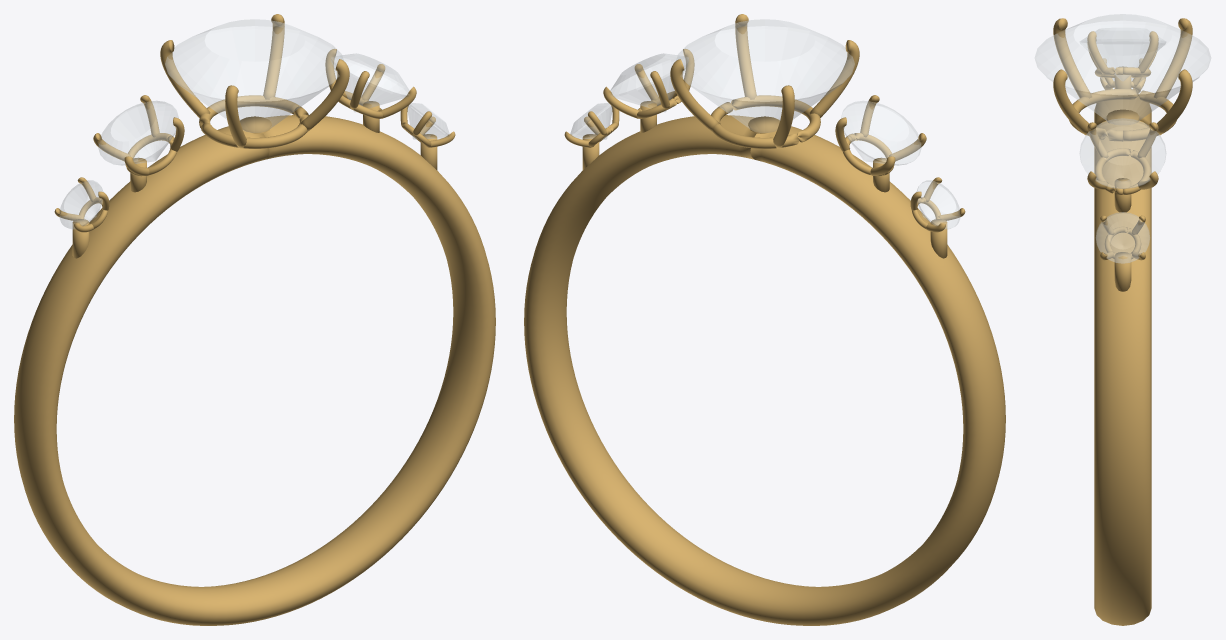
The model's file is layouts-five-stone.glb.
The picture shows the model from 3 angles, left to right: view 1: azimuth 30°, elevation 25°; view 2: azimuth 150°, elevation 25°; view 3: azimuth 270°, elevation 25°; orthographic projection.
Parts seen in each view (by area): view 1: Band, Gem, Gem.001, Lower gallery, Gem.003, Gem.002, Prong.001, Prong, Prong.003, Gem.004, Prong.002, Lower gallery.001; view 2: Band, Gem, Gem.001, Lower gallery, Gem.003, Gem.002, Prong.002, Prong.003, Prong, Gem.004, Prong.001, Lower gallery.001; view 3: Band, Gem, Gem.003, Gem.004, Gem.001, Lower gallery, Prong.001, Prong.002, Lower gallery.003, Prong, Prong.003, Side head support.003 (+8 smaller).
Boxes of the visible parts, <box> form: Band: <box>14,115,495,625</box>; Gem: <box>165,19,343,132</box>; Gem.001: <box>98,101,178,165</box>; Lower gallery: <box>199,95,308,148</box>; Gem.003: <box>331,53,409,111</box>; Gem.002: <box>59,180,103,228</box>; Prong.001: <box>160,40,210,117</box>; Prong: <box>263,14,284,99</box>; Prong.003: <box>299,59,349,131</box>; Gem.004: <box>407,103,449,139</box>; Prong.002: <box>225,85,246,148</box>; Lower gallery.001: <box>125,133,176,176</box>; Band: <box>524,115,1005,625</box>; Gem: <box>676,19,854,132</box>; Gem.001: <box>841,101,921,165</box>; Lower gallery: <box>711,95,820,148</box>; Gem.003: <box>610,53,688,111</box>; Gem.002: <box>916,180,960,228</box>; Prong.002: <box>809,40,859,117</box>; Prong.003: <box>735,14,756,99</box>; Prong: <box>670,59,720,131</box>; Gem.004: <box>570,103,612,139</box>; Prong.001: <box>773,85,794,148</box>; Lower gallery.001: <box>843,133,894,176</box>; Band: <box>1094,97,1151,625</box>; Gem: <box>1035,14,1210,121</box>; Gem.003: <box>1079,118,1166,188</box>; Gem.004: <box>1096,212,1149,263</box>; Gem.001: <box>1080,28,1165,80</box>; Lower gallery: <box>1069,88,1176,141</box>; Prong.001: <box>1154,18,1192,98</box>; Prong.002: <box>1053,18,1091,98</box>; Lower gallery.003: <box>1094,148,1151,194</box>; Prong: <box>1157,69,1192,135</box>; Prong.003: <box>1053,69,1088,135</box>; Side head support.003: <box>1114,252,1131,291</box>.
Bounding box in the file's own units: 19.6 × 22.94 × 6.5.
